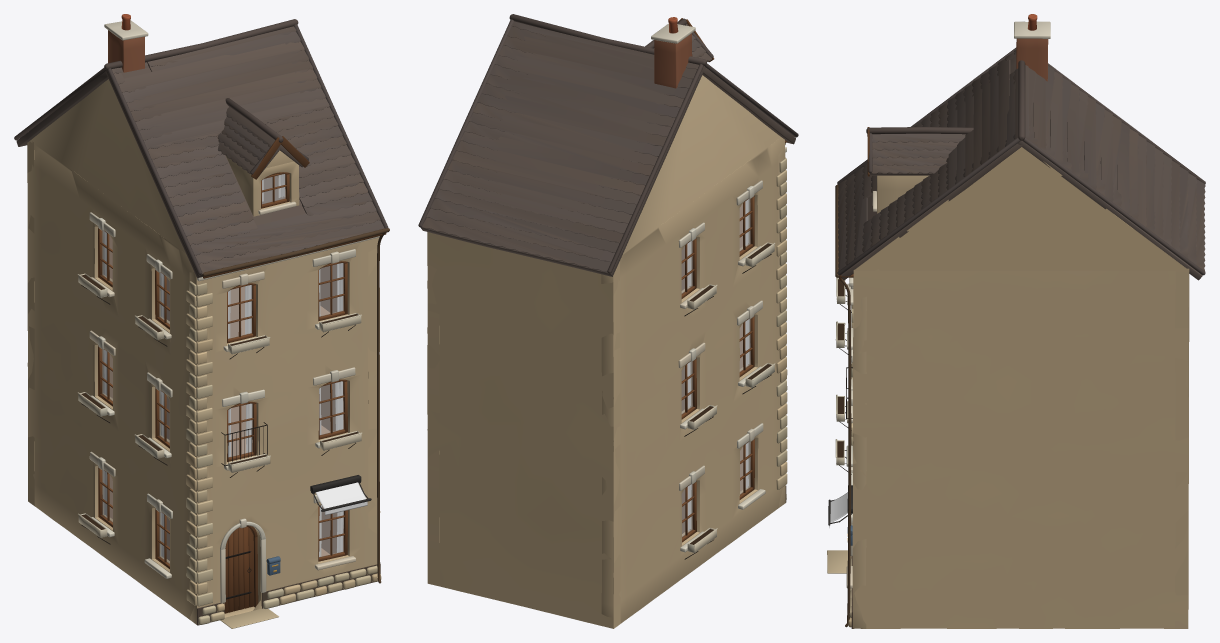
Rendered from Opposite_Opposite2_1.glb.
3 views of the same model, side by side, from view 1: azimuth 30°, elevation 25°; view 2: azimuth 150°, elevation 25°; view 3: azimuth 270°, elevation 25° (orthographic). The views are drawn at different scales.
Visible parts, largest first — view 1: Sammel Quader, Sammel Stein, Sammel Holz, Sammel Putz, Glas, Sammel Putz innen, Sammel Lack, Sammel Metall, Vorhang Leinen, Sammel Ziegel, Markisenstoff Schiefer; view 2: Sammel Quader, Sammel Stein, Sammel Putz, Sammel Holz, Glas, Sammel Lack, Sammel Ziegel, Vorhang Leinen, Sammel Putz innen; view 3: Sammel Quader, Sammel Stein, Sammel Putz, Sammel Metall, Sammel Ziegel, Sammel Lack.
Part boxes in pixels (box(x1,y1,x2,y2)): Sammel Quader: box(27, 79, 380, 624); Sammel Stein: box(14, 19, 388, 628); Sammel Holz: box(98, 136, 386, 613); Sammel Putz: box(81, 14, 380, 625); Glas: box(102, 174, 343, 563); Sammel Putz innen: box(109, 235, 337, 560); Sammel Lack: box(77, 273, 362, 575); Sammel Metall: box(81, 228, 389, 599); Vorhang Leinen: box(103, 174, 343, 557); Sammel Ziegel: box(108, 30, 144, 72); Markisenstoff Schiefer: box(315, 482, 367, 515); Sammel Quader: box(427, 75, 785, 628); Sammel Stein: box(418, 14, 798, 499); Sammel Putz: box(651, 17, 786, 552); Sammel Holz: box(677, 18, 787, 542); Glas: box(682, 199, 750, 536); Sammel Lack: box(687, 242, 775, 552); Sammel Ziegel: box(654, 33, 692, 88); Vorhang Leinen: box(687, 199, 749, 530); Sammel Putz innen: box(681, 204, 743, 533); Sammel Quader: box(852, 147, 1189, 628); Sammel Stein: box(827, 47, 1205, 627); Sammel Putz: box(837, 14, 1050, 628); Sammel Metall: box(828, 184, 852, 627); Sammel Ziegel: box(1016, 38, 1048, 81); Sammel Lack: box(835, 277, 852, 545).
Bounding box in the file's own units: 5.49 × 14.06 × 9.03.
